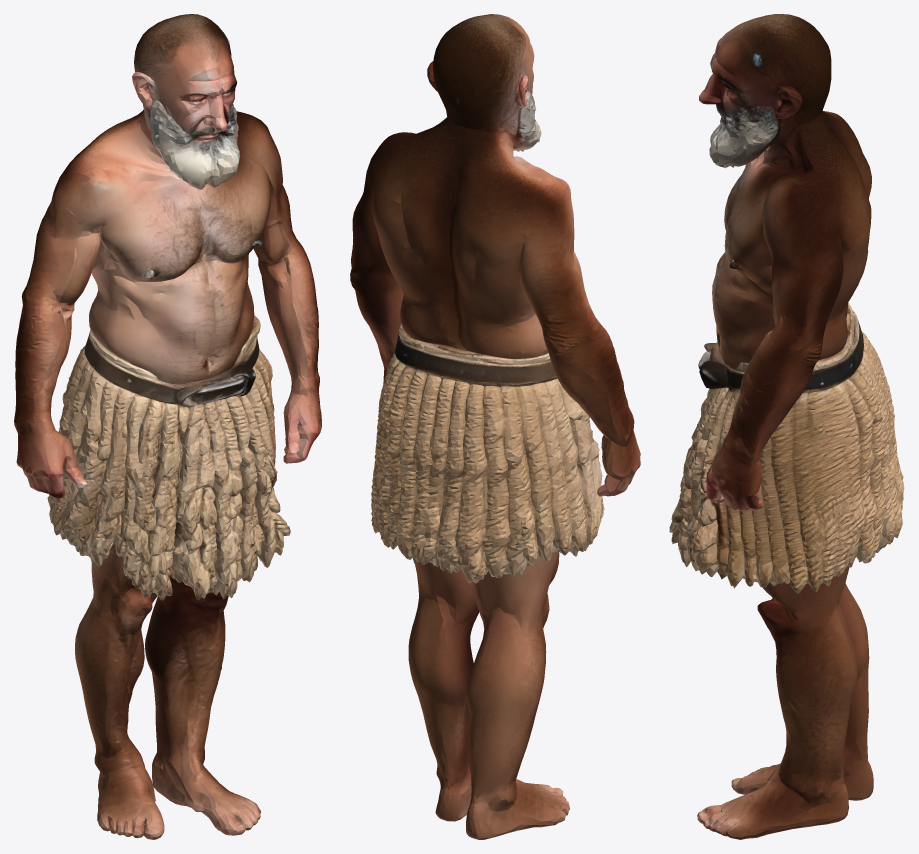
File: uruk_farmer_rodin_source.glb
The picture shows the model from 3 angles, left to right: view 1: azimuth 30°, elevation 25°; view 2: azimuth 150°, elevation 25°; view 3: azimuth 270°, elevation 25°; orthographic projection. The views are drawn at different scales.
Visible parts, largest first — view 1: model; view 2: model; view 3: model.
Boxes of the visible parts, x1=… form: model: x1=14, y1=14, x2=321, y2=839; model: x1=350, y1=14, x2=640, y2=839; model: x1=669, y1=14, x2=904, y2=839.
Size of the model in its own units: 0.7109 by 1.9 by 0.5031.
1 material, 1 textured.
